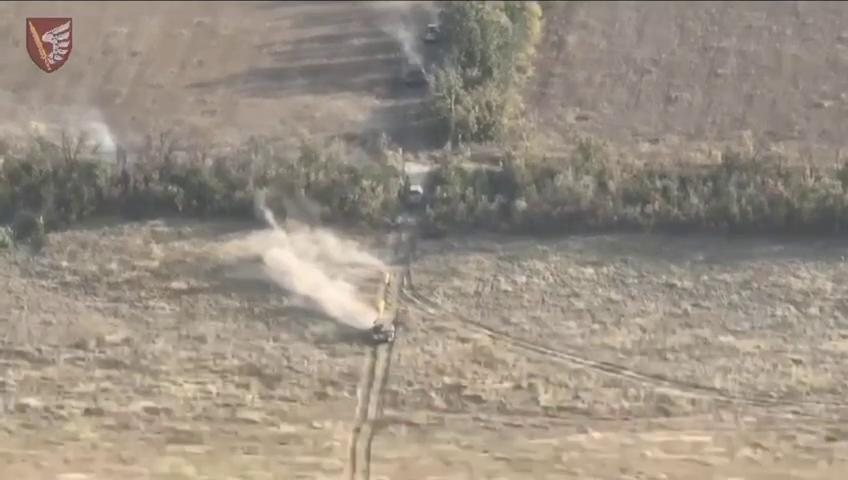tank: (370, 313, 397, 348), (403, 56, 432, 88), (403, 178, 428, 206), (419, 21, 443, 48)
